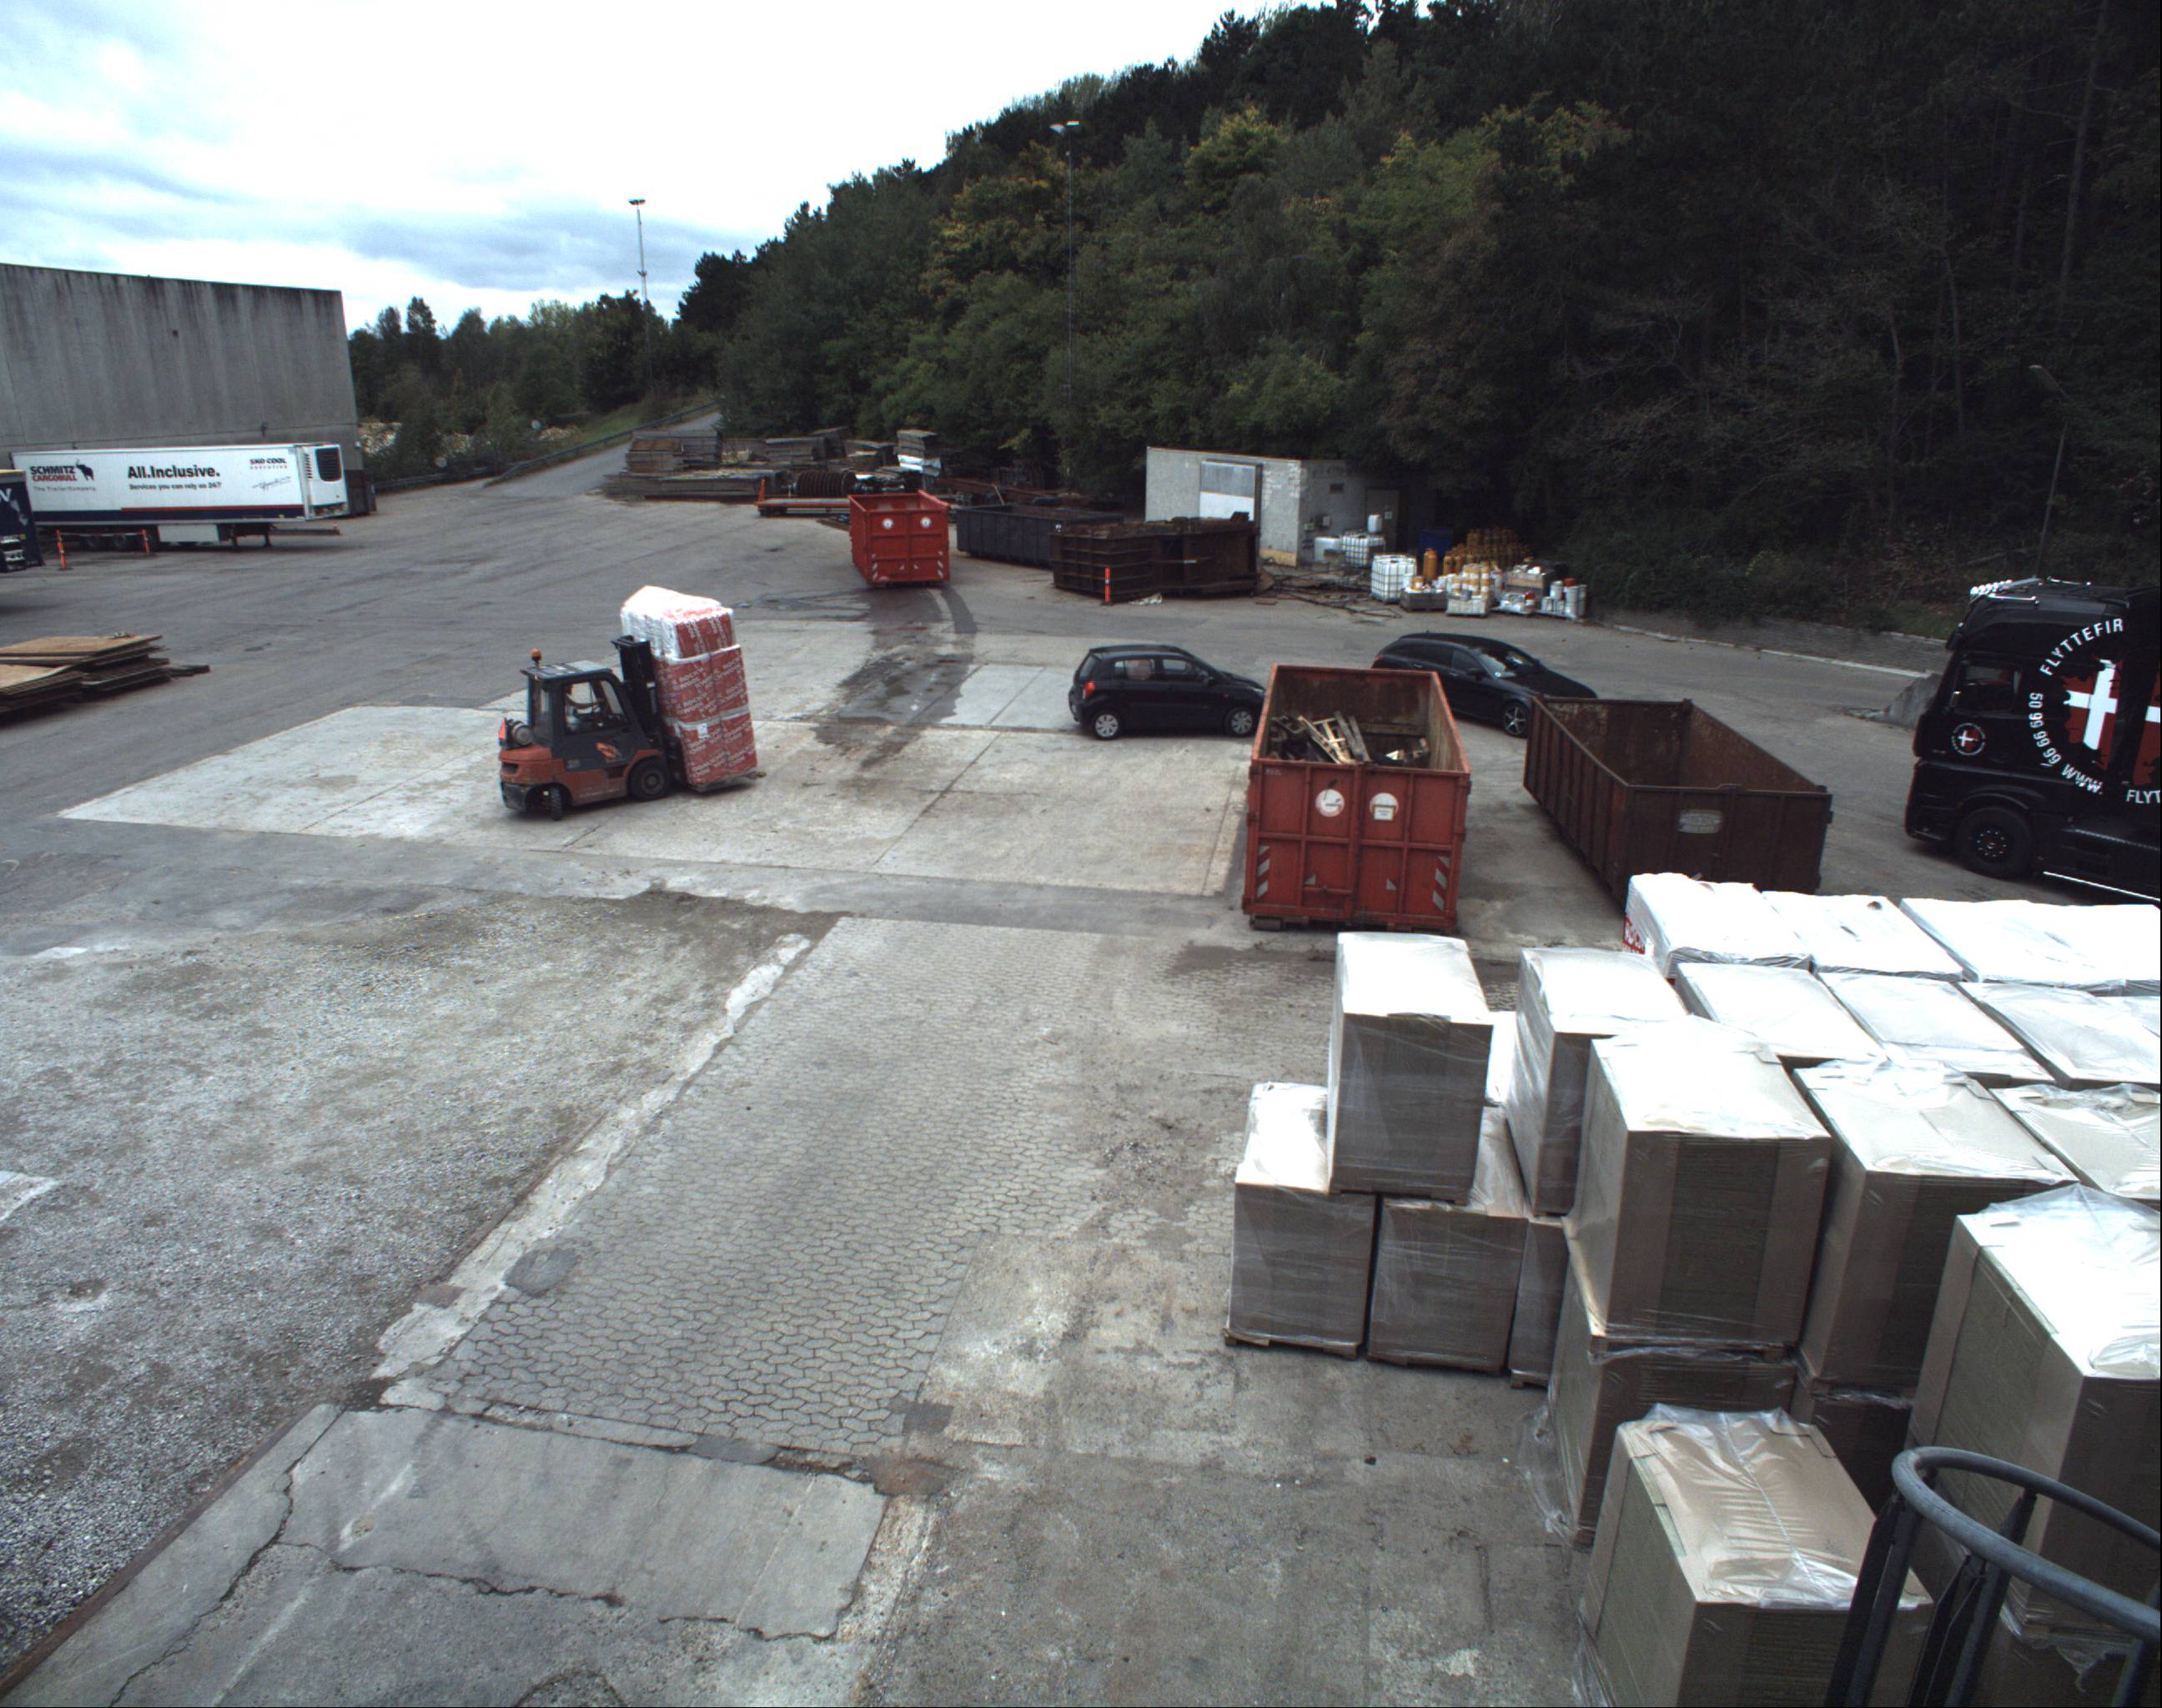rockwool_batts: (619, 592, 760, 774)
